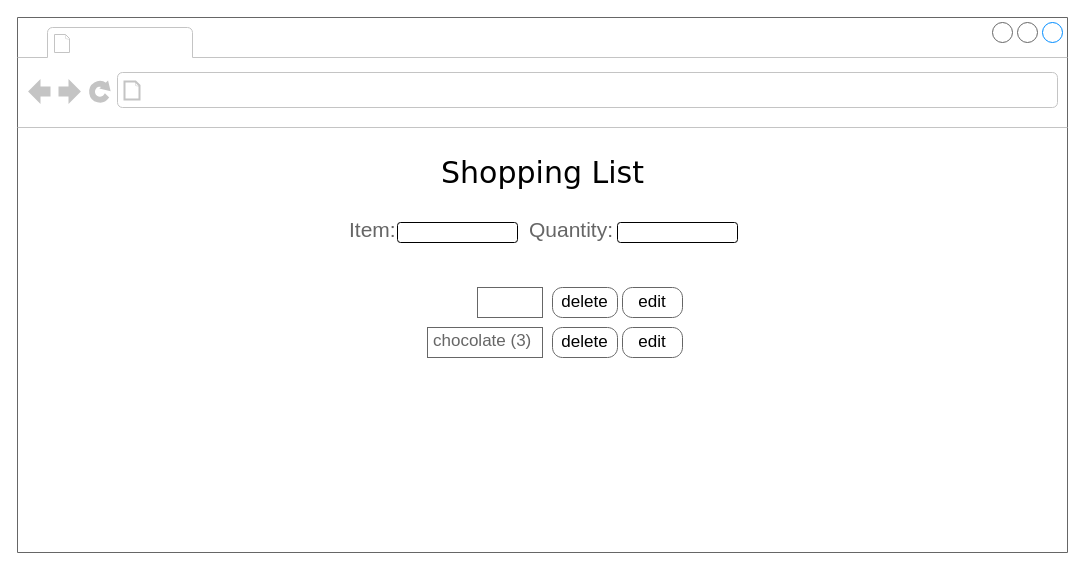
This 1085x570 diagram has some shape labels left out. Here are the shapes that lost their labels. From the top down, the box of each, then its label:
(76, 28, 188, 56): Page 1
(146, 76, 398, 104): https://www.default.com
(476, 286, 542, 318): milk (2)
